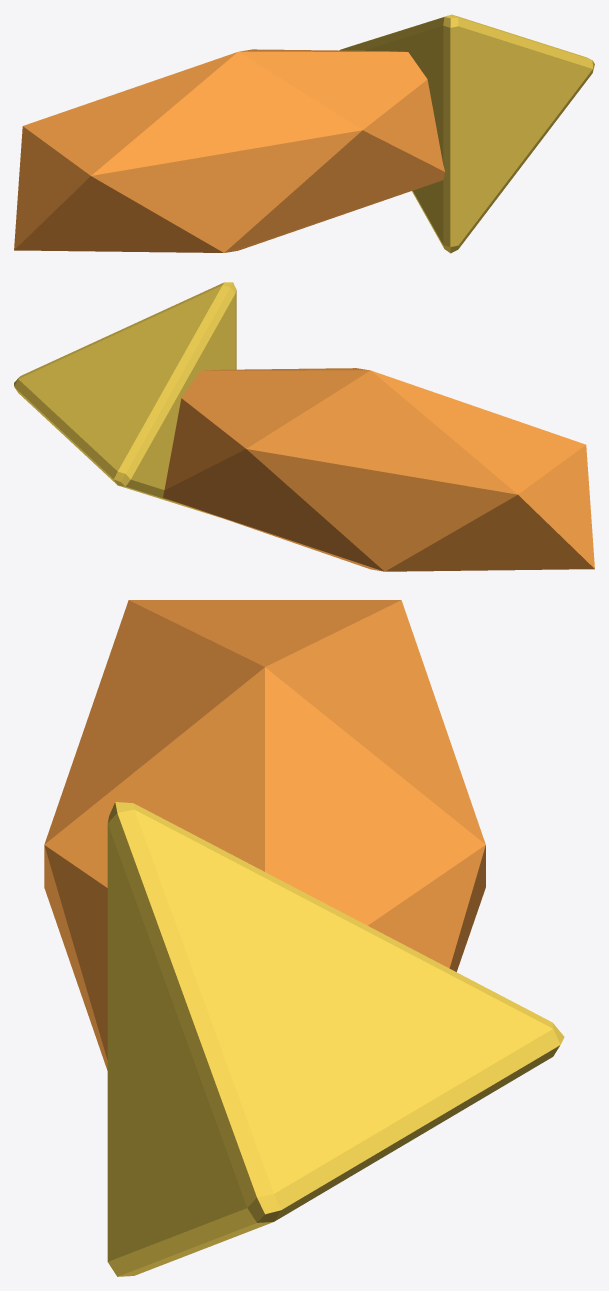
Rendered from Fish.fbx.
The picture shows the model from 3 angles, top to bottom: view 1: azimuth 30°, elevation 25°; view 2: azimuth 150°, elevation 25°; view 3: azimuth 270°, elevation 25°; orthographic projection. The views are drawn at different scales.
Parts seen in each view (by area): view 1: FishBody, FishTail; view 2: FishBody, FishTail; view 3: FishTail, FishBody.
Boxes of the visible parts, <box> form: FishBody: <box>14,49,445,252</box>; FishTail: <box>339,14,594,253</box>; FishBody: <box>163,368,594,571</box>; FishTail: <box>14,282,236,517</box>; FishTail: <box>107,802,564,1276</box>; FishBody: <box>44,600,485,1070</box>.
Bounding box in the file's own units: 1.01 × 0.3898 × 0.391.
